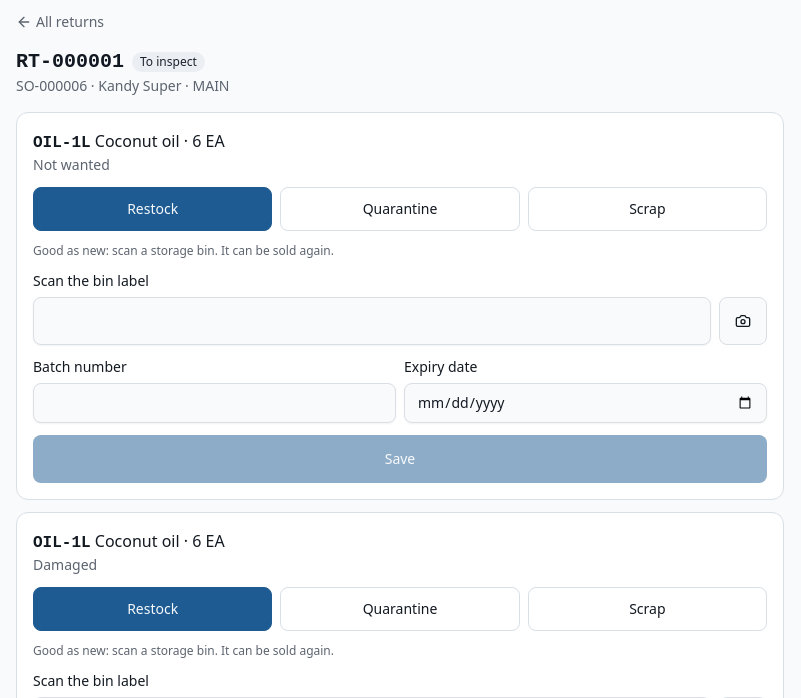
Test: inspects a line on the phone: restock into a scanned bin; scrap needs no bin
Later steps or results of the test are not shown.
Expected: the button "Save" is disabled, left=33, top=435, right=767, bottom=483
Step 1. Type "a-01-01-02" into the field labelled "Scan the bin label" below "Not wanted" → x=372, y=321, box left=33, top=297, right=711, bottom=345
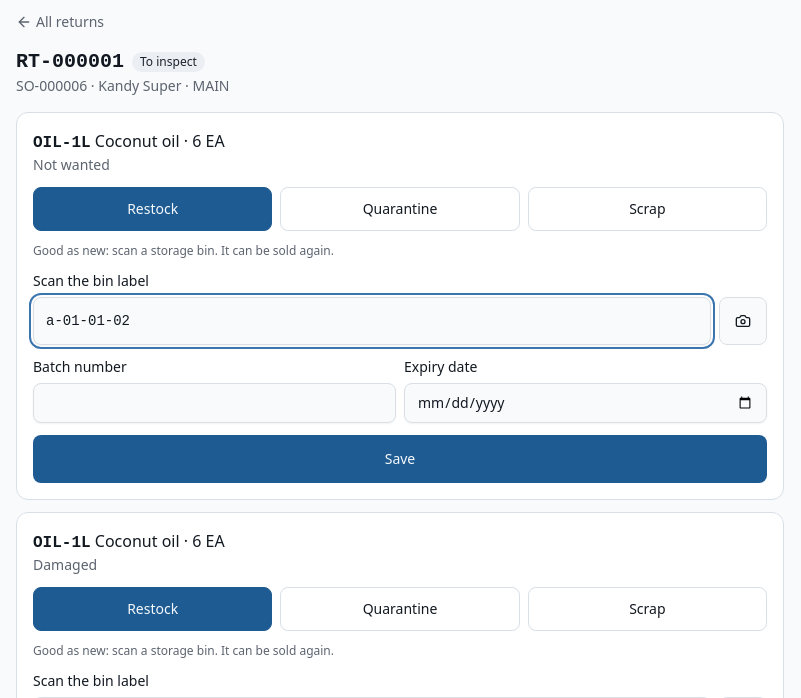
Step 2. Click the button "Save" → x=400, y=459, box left=33, top=435, right=767, bottom=483
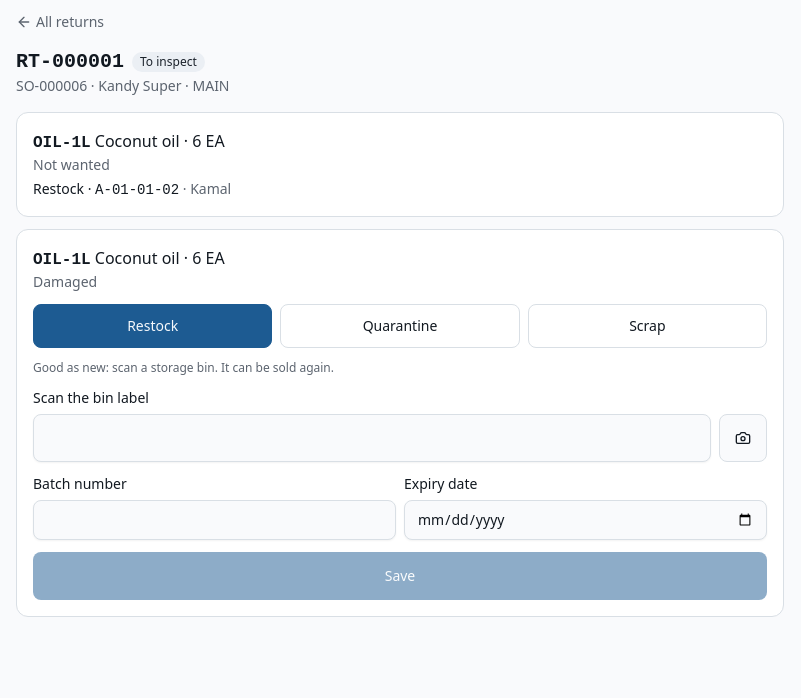
Expected: the text "A-01-01-02" is shown, left=95, top=182, right=179, bottom=198
Step 3. Click the radio button labelled "Scrap" → x=647, y=326, box left=528, top=304, right=767, bottom=348
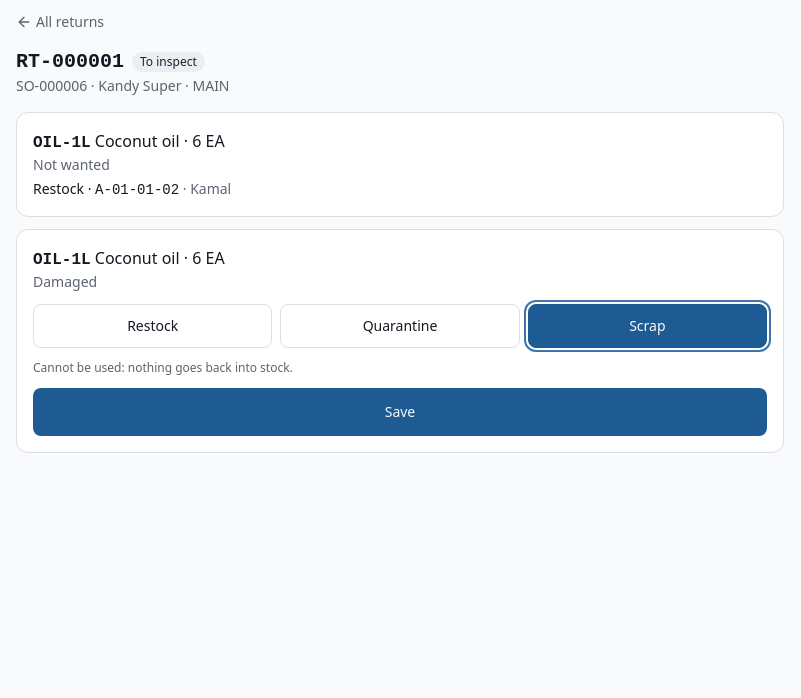
Expected: the text "Cannot be used: nothing goes back into stock." is shown, left=33, top=359, right=293, bottom=376
Expected: the label labelled "Scan the bin label" is gone
